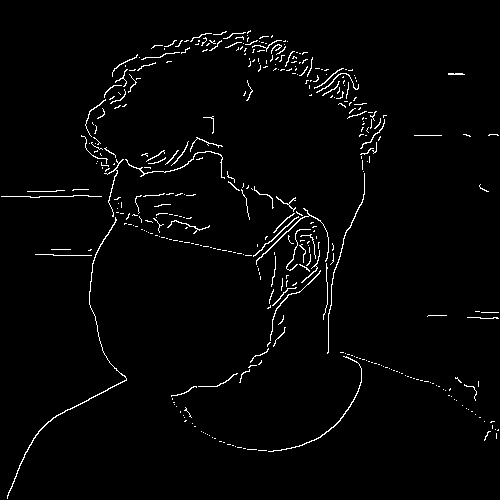mask: (92, 222, 292, 406)
